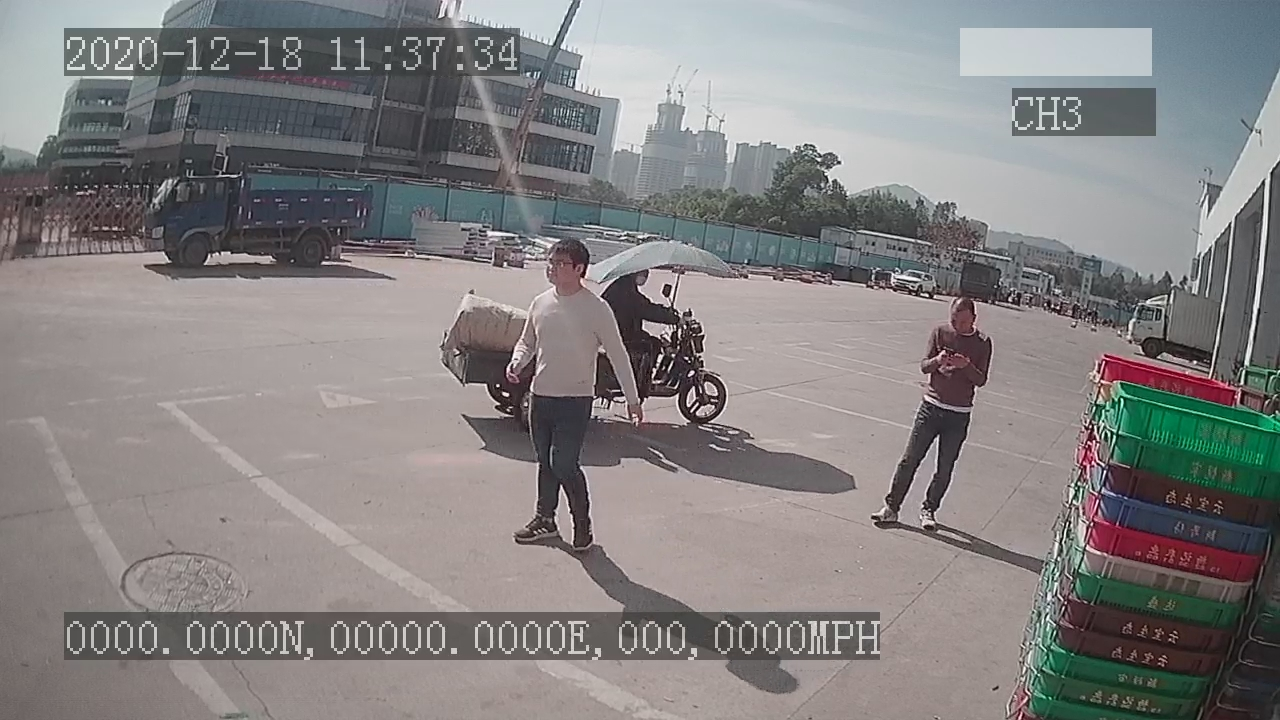person: (866, 290, 995, 534)
